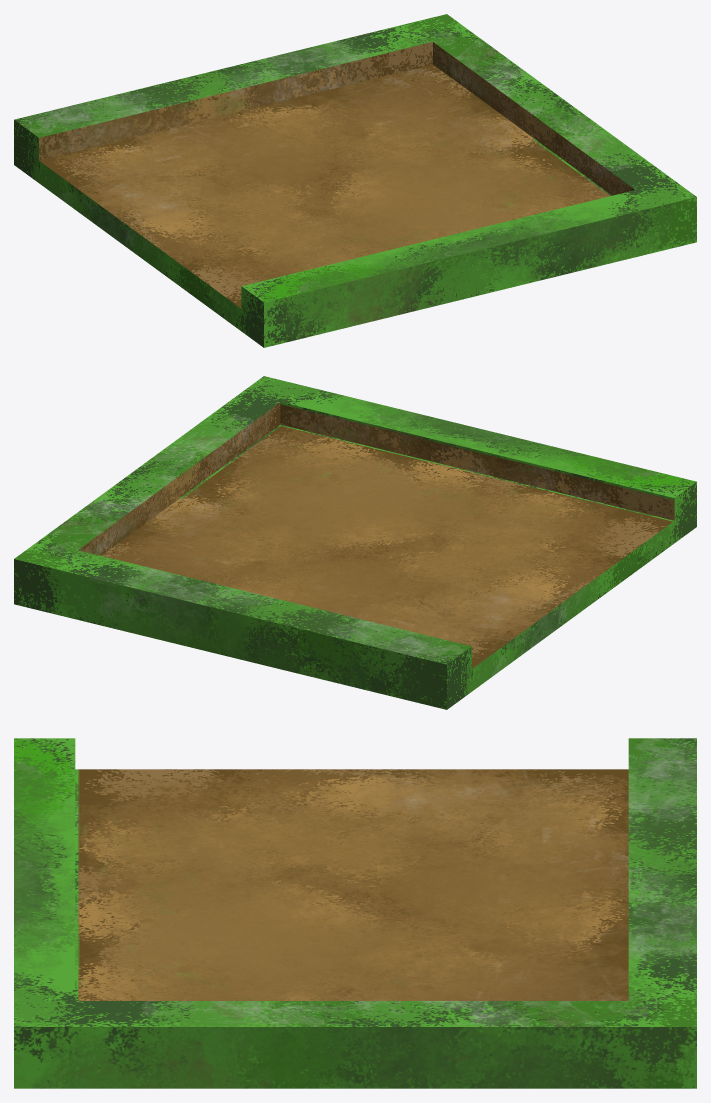
Rendered from Street4.fbx.
The picture shows the model from 3 angles, top to bottom: view 1: azimuth 30°, elevation 25°; view 2: azimuth 150°, elevation 25°; view 3: azimuth 270°, elevation 25°; orthographic projection. The views are drawn at different scales.
Parts seen in each view (by area): view 1: Street4; view 2: Street4; view 3: Street4.
Boxes of the visible parts, x1,y1,x2,y2 form: Street4: (14,14,696,347); Street4: (14,376,696,709); Street4: (14,738,696,1088).
Bounding box in the file's own units: 200 × 20 × 200.
1 material, 1 textured.
